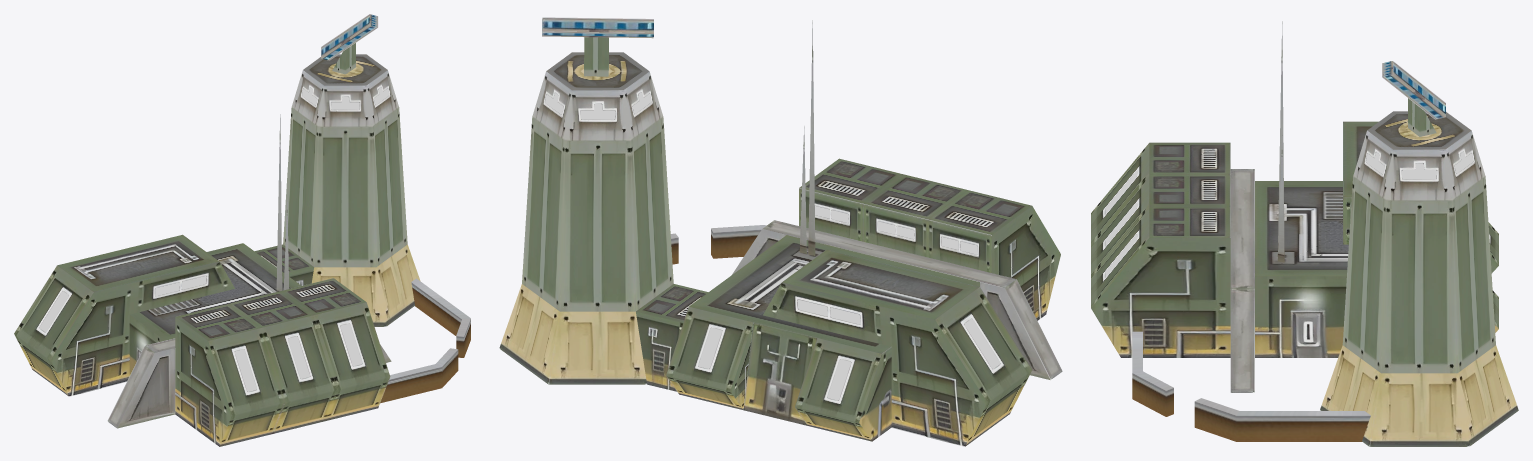
The model's file is l_turretcontrol_hdtex.glb.
3 views of the same model, side by side, from view 1: azimuth 30°, elevation 25°; view 2: azimuth 150°, elevation 25°; view 3: azimuth 270°, elevation 25° (orthographic). The views are drawn at different scales.
Parts seen in each view (by area): view 1: L_TurretControl, LitWin_Turretcon, LOS_ant3, LOS_ant1; view 2: L_TurretControl, LitWin_Turretcon, LOS_ant3, LOS_ant1, LOS_ant2; view 3: L_TurretControl, LOS_ant3, LitWin_Turretcon, LOS_ant1, LOS_ant2.
Boxes of the visible parts, x1,y1,x2,y2 form: L_TurretControl: (14,43,470,446); LitWin_Turretcon: (39,87,389,391); LOS_ant3: (321,14,378,60); LOS_ant1: (276,114,282,291); L_TurretControl: (499,37,1062,446); LitWin_Turretcon: (545,92,1000,400); LOS_ant3: (542,17,653,38); LOS_ant1: (808,20,815,255); LOS_ant2: (799,126,806,253); L_TurretControl: (1091,98,1518,446); LOS_ant3: (1382,61,1445,119); LitWin_Turretcon: (1105,151,1473,277); LOS_ant1: (1277,21,1284,256); LOS_ant2: (1277,134,1284,262).
Bounding box in the file's own units: 24.37 × 16.2 × 19.
Materials: 2 (2 with a texture image).
